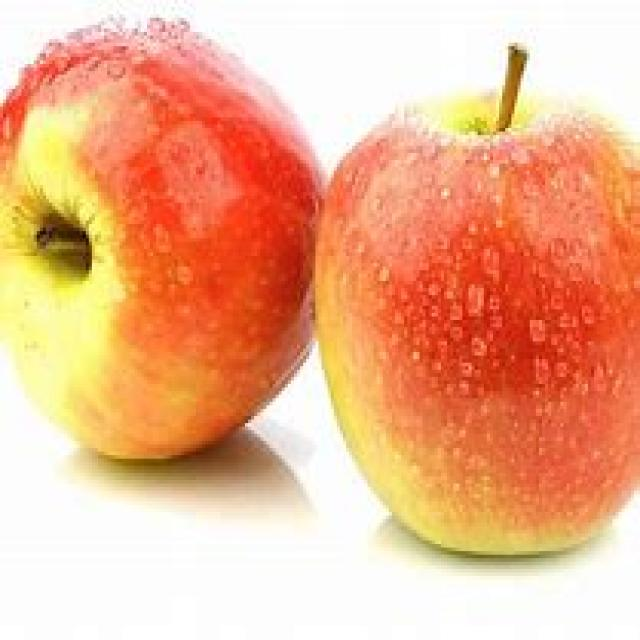apple: (312, 45, 640, 556), (3, 15, 316, 460)
